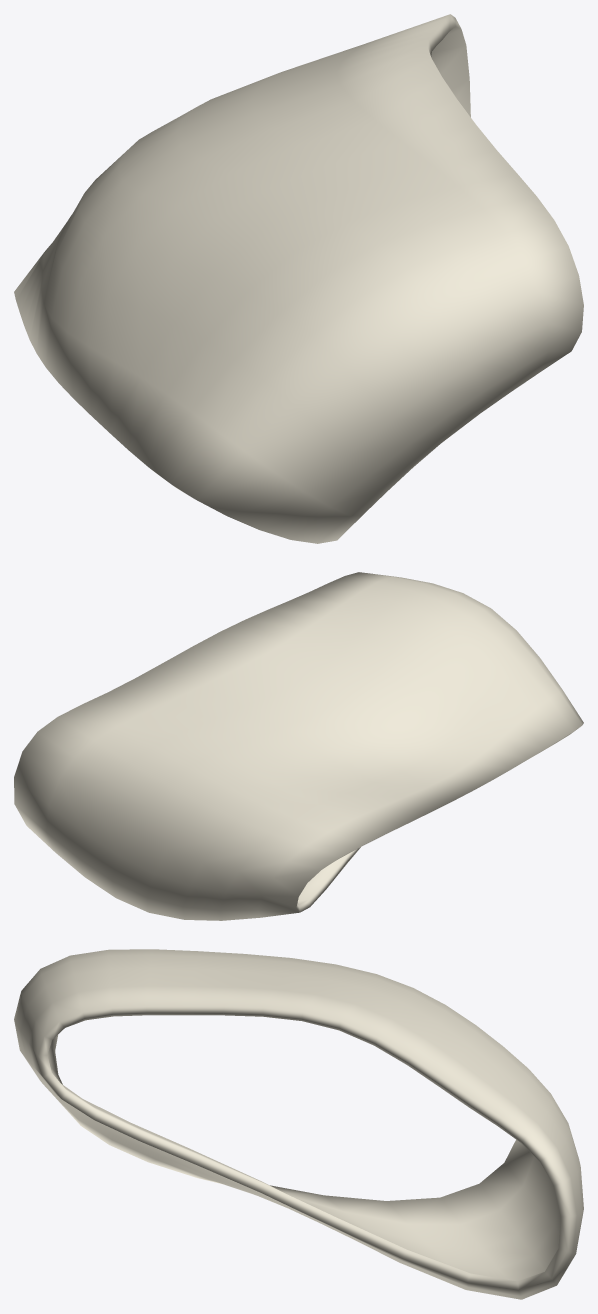
3 views of the same model, one above another, from view 1: azimuth 30°, elevation 25°; view 2: azimuth 150°, elevation 25°; view 3: azimuth 270°, elevation 25° (orthographic). The views are drawn at different scales.
Parts seen in each view (by area): view 1: ZA_369dbcbddc798af2; view 2: ZA_369dbcbddc798af2; view 3: ZA_369dbcbddc798af2.
Part boxes in pixels (x1,y1,x2,y2): ZA_369dbcbddc798af2: (14, 14, 583, 543); ZA_369dbcbddc798af2: (14, 572, 583, 920); ZA_369dbcbddc798af2: (14, 949, 583, 1299).
Size of the model in its own units: 0.027 by 0.0161 by 0.0292.
